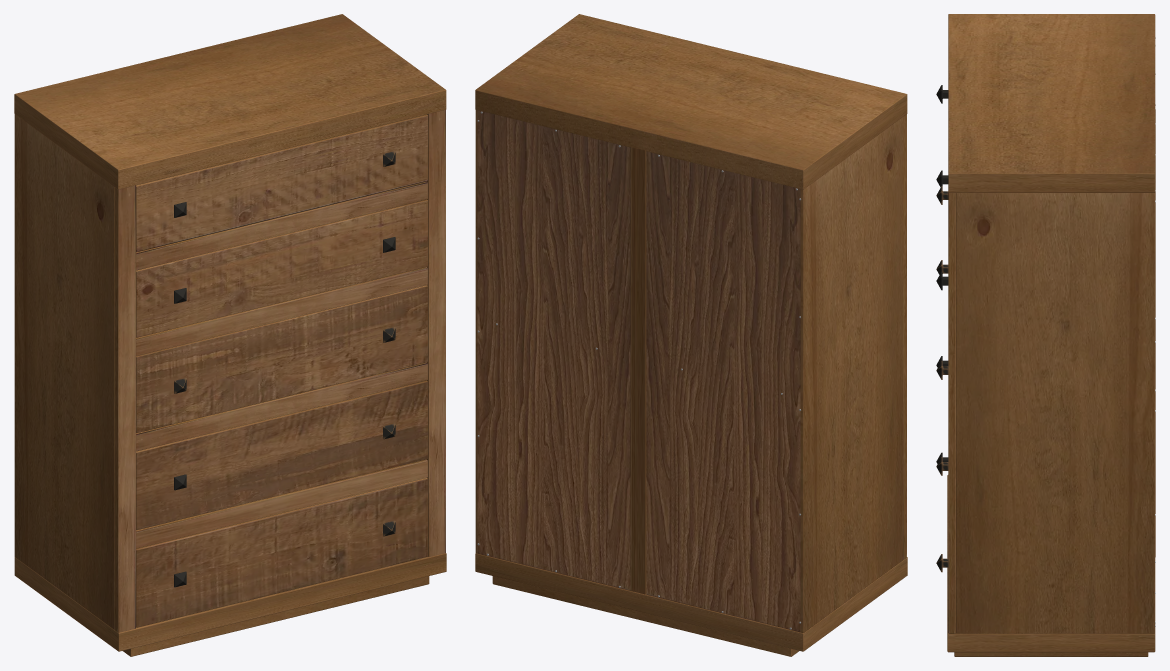
File: abo-B075YZ8468.glb
The picture shows the model from 3 angles, left to right: view 1: azimuth 30°, elevation 25°; view 2: azimuth 150°, elevation 25°; view 3: azimuth 270°, elevation 25°; orthographic projection.
Bounding box in the file's own units: 0.901 × 1.29 × 0.524.
1 material, 1 textured.
